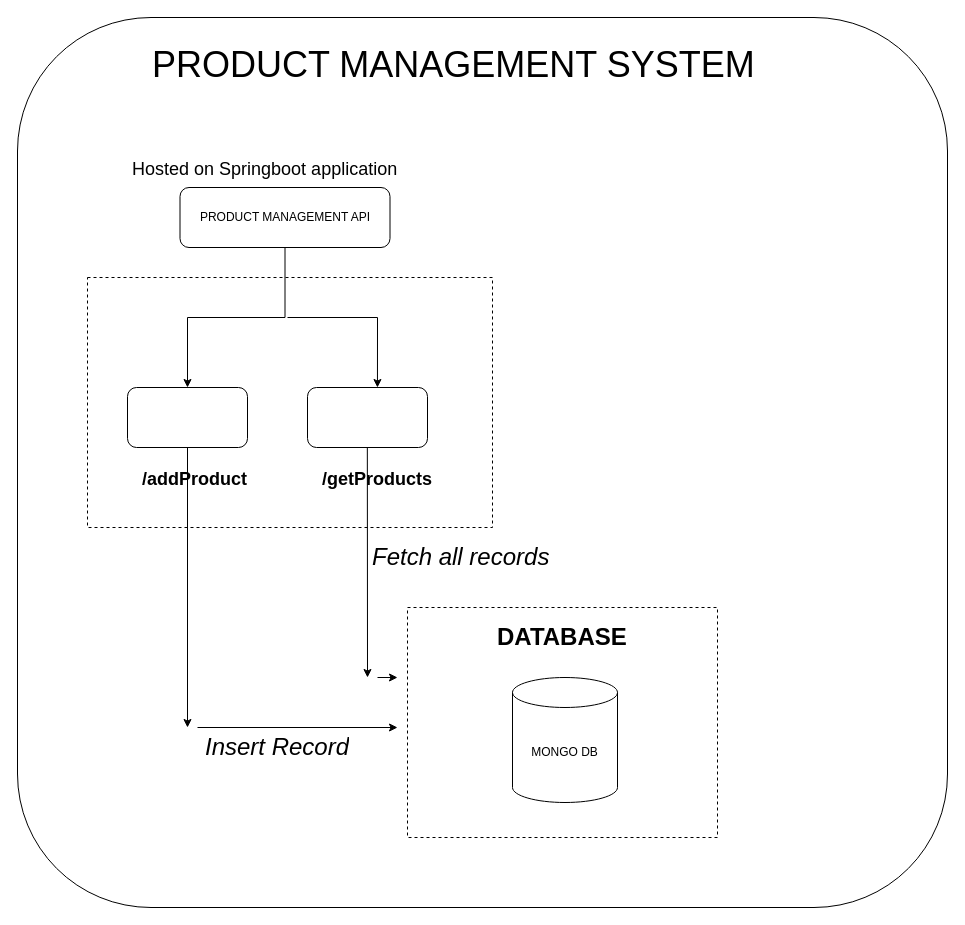
This 965x925 diagram has some shape labels left out. The shapes that lost their labels are listed below. From the top down, each one's centre as x and y in pixels, then its label:
At pixel 187 417: "ADD PRODUCT".
At pixel 367 417: "GET ALL PRODUCTS".
